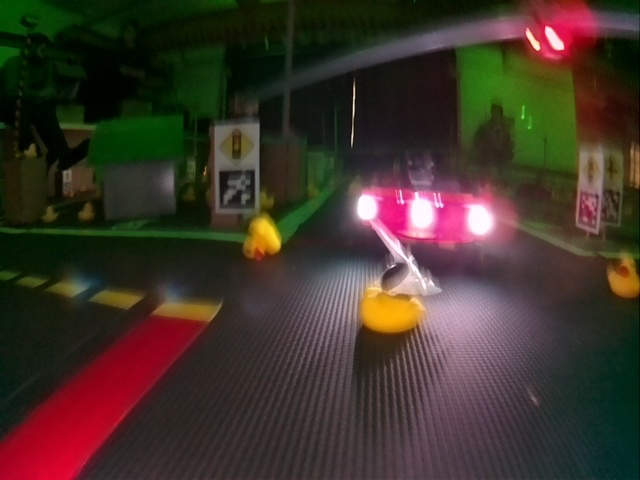Duckie: (242, 217, 281, 259), (608, 258, 637, 295), (42, 206, 57, 221), (80, 203, 93, 219), (24, 146, 32, 156)
Duckiebot: (354, 164, 496, 256)
Intersection sign: (603, 152, 622, 186)
QR code: (217, 168, 255, 210), (577, 190, 602, 233), (601, 190, 622, 228)
Signal sign: (216, 125, 257, 165), (578, 152, 603, 188)
Traffic light: (523, 9, 572, 57)
